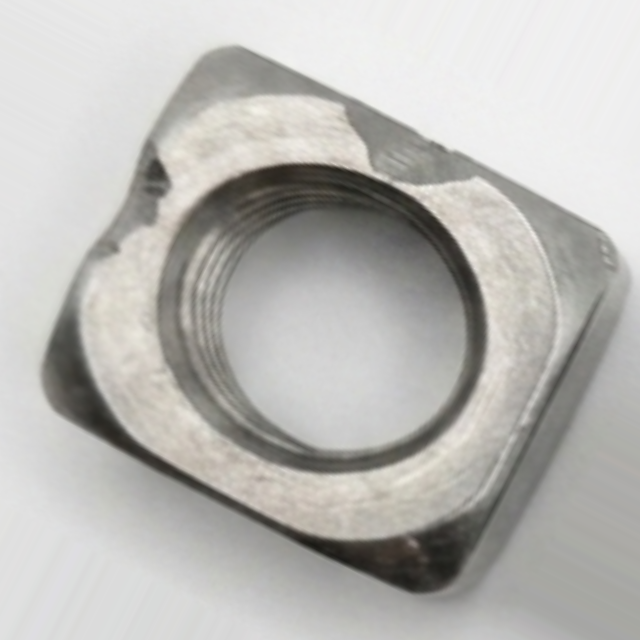defect: (338, 94, 488, 197), (80, 128, 174, 258), (590, 222, 626, 284)
